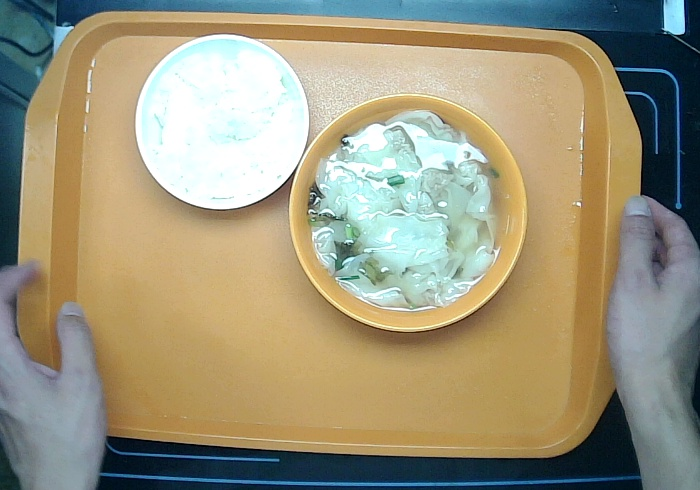NLDX-Fan_Wan: (128, 28, 315, 216)
NLDX-Hun_Tun_Wan: (286, 90, 530, 336)
